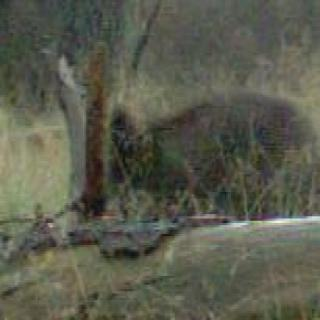Pig: (85, 55, 320, 228)
